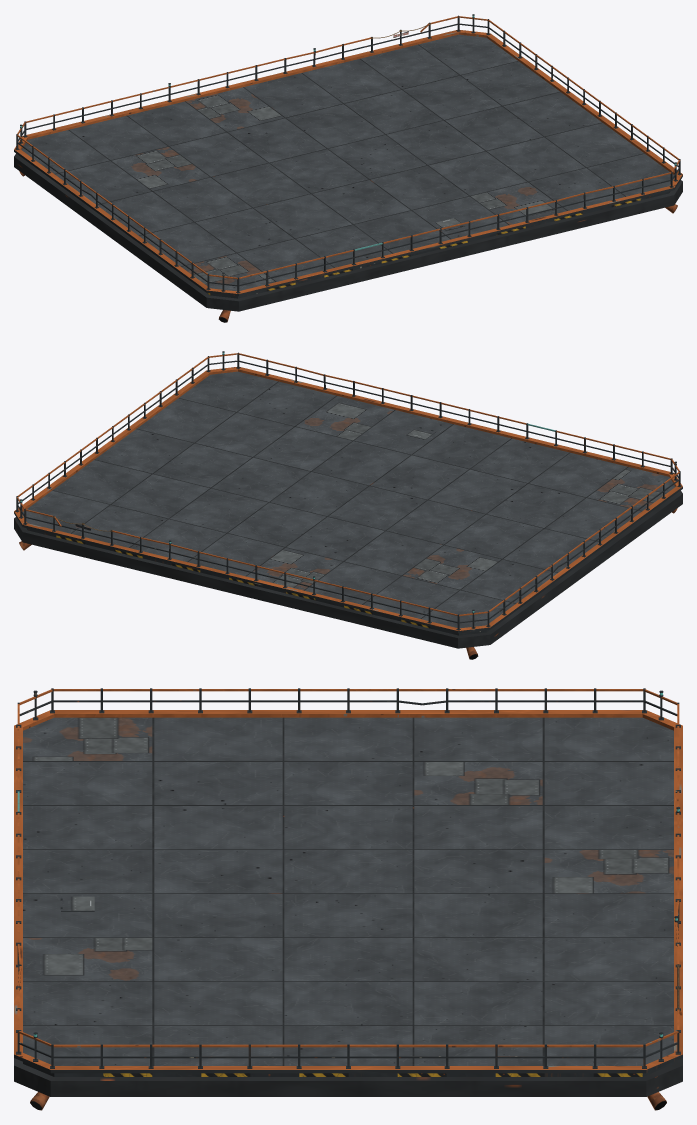
File: Platform.fbx
The picture shows the model from 3 angles, top to bottom: view 1: azimuth 30°, elevation 25°; view 2: azimuth 150°, elevation 25°; view 3: azimuth 270°, elevation 25°; orthographic projection. The views are drawn at different scales.
Parts seen in each view (by area): view 1: Platform; view 2: Platform; view 3: Platform.
Boxes of the visible parts, x1,y1,x2,y2 form: Platform: (14, 14, 682, 322); Platform: (14, 351, 682, 659); Platform: (14, 688, 682, 1110).
Bounding box in the file's own units: 32.7 × 6.83 × 25.7.
